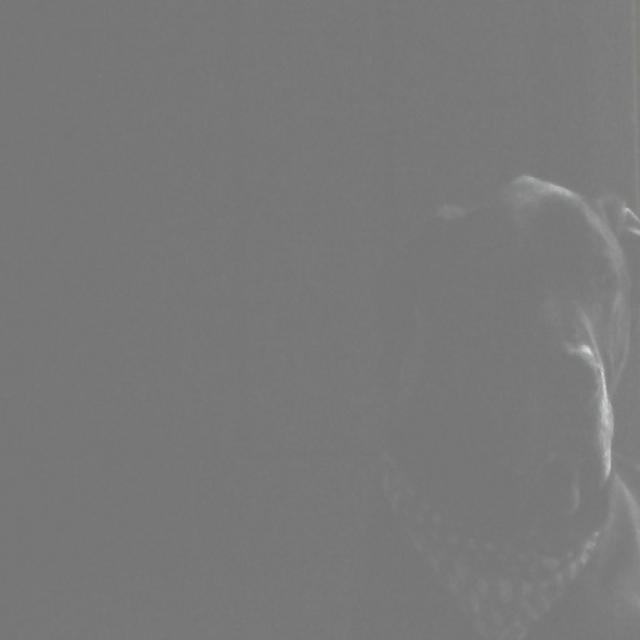Dog: (260, 81, 640, 614)
